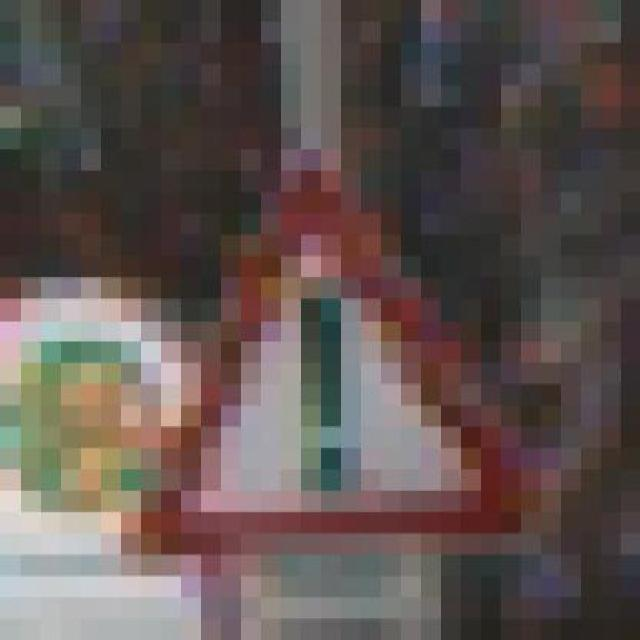Attention Please-: (98, 149, 538, 576)
